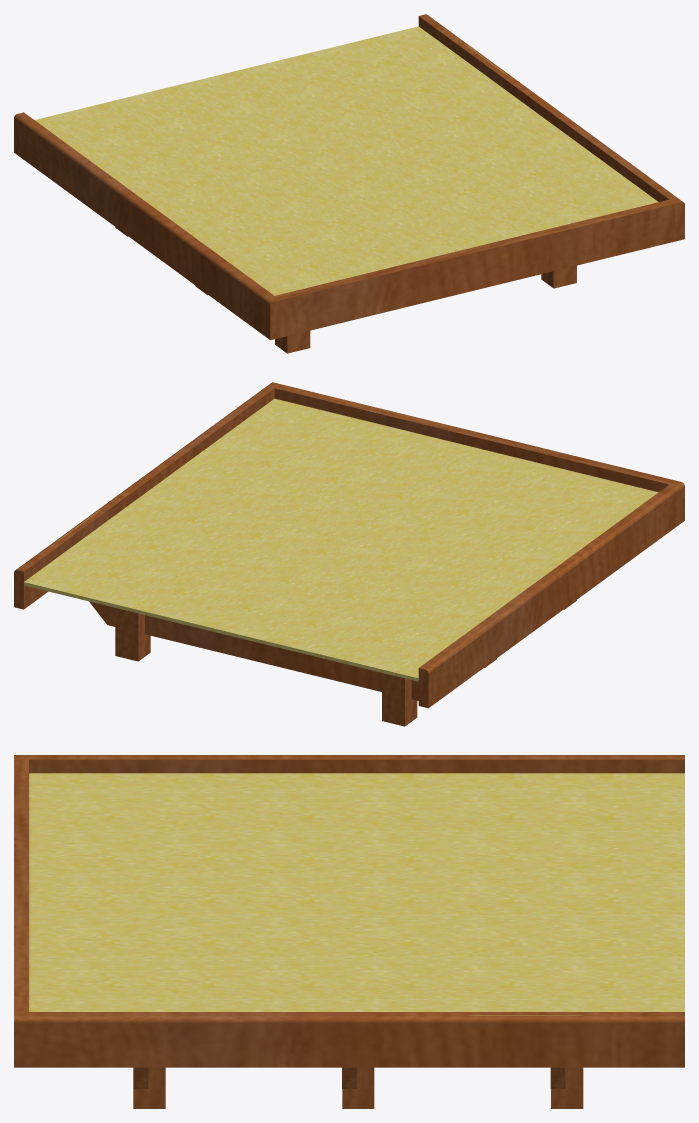
3 renders of one model, top to bottom at view 1: azimuth 30°, elevation 25°; view 2: azimuth 150°, elevation 25°; view 3: azimuth 270°, elevation 25°, orthographic. The views are drawn at different scales.
Parts seen in each view (by area): view 1: model_normalized; view 2: model_normalized; view 3: model_normalized.
Part boxes in pixels (x1,y1,x2,y2): model_normalized: (14, 14, 684, 353); model_normalized: (14, 382, 684, 726); model_normalized: (14, 755, 684, 1108).
Bounding box in the file's own units: 0.6741 × 0.1551 × 0.7222.
2 materials, 2 textured.
